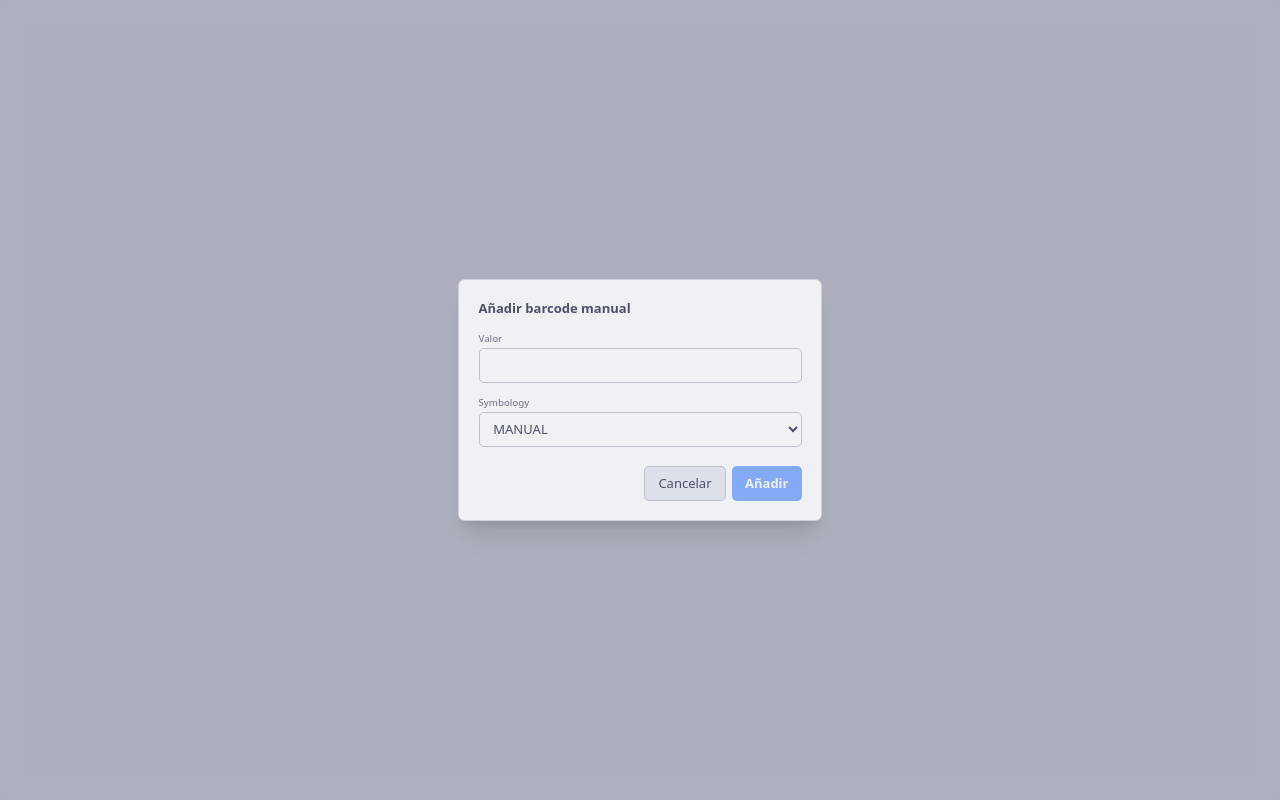
Test: AddBarcodeDialog › enables submit when value is present
The image size is (1280, 800).
Type "ABC" into the field with test id "barcode-value" at (640, 365), box [478,348,802,382]
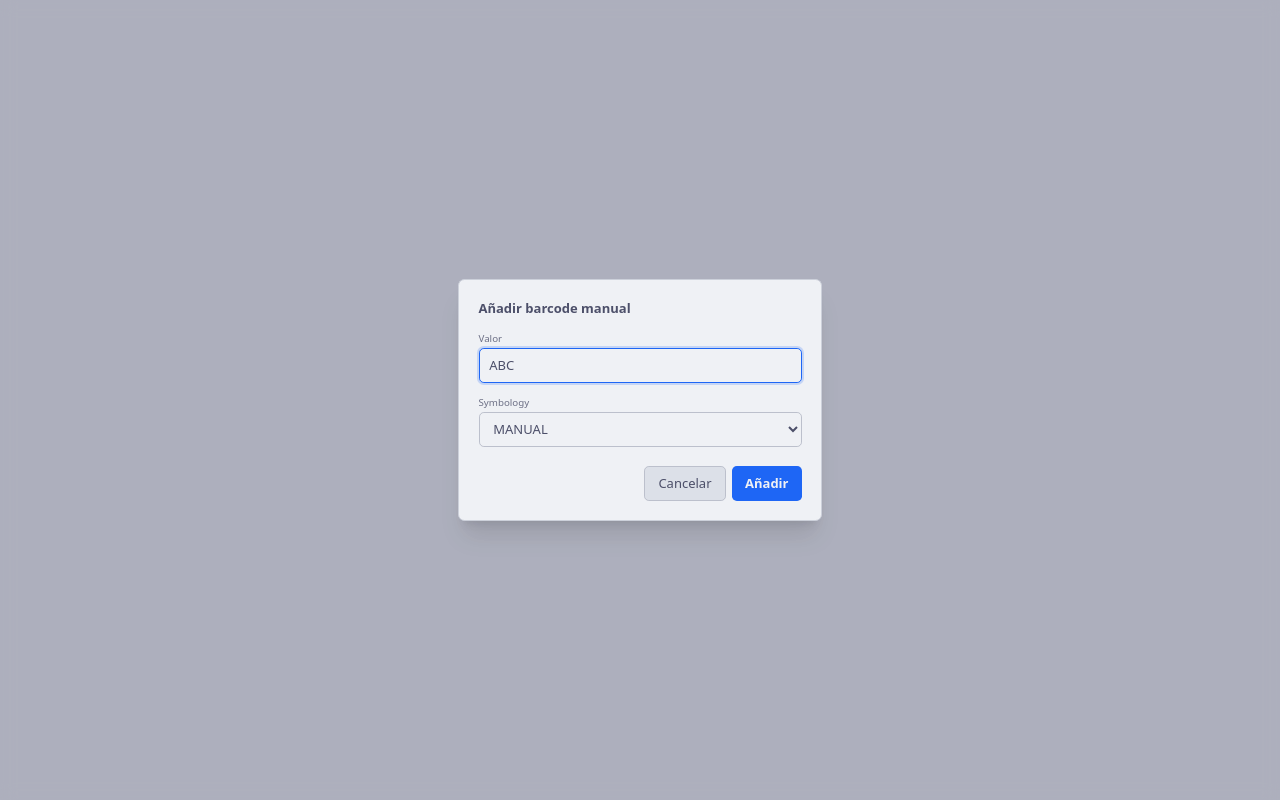
Check: the button with test id "submit" is enabled, box [732,466,802,501]
